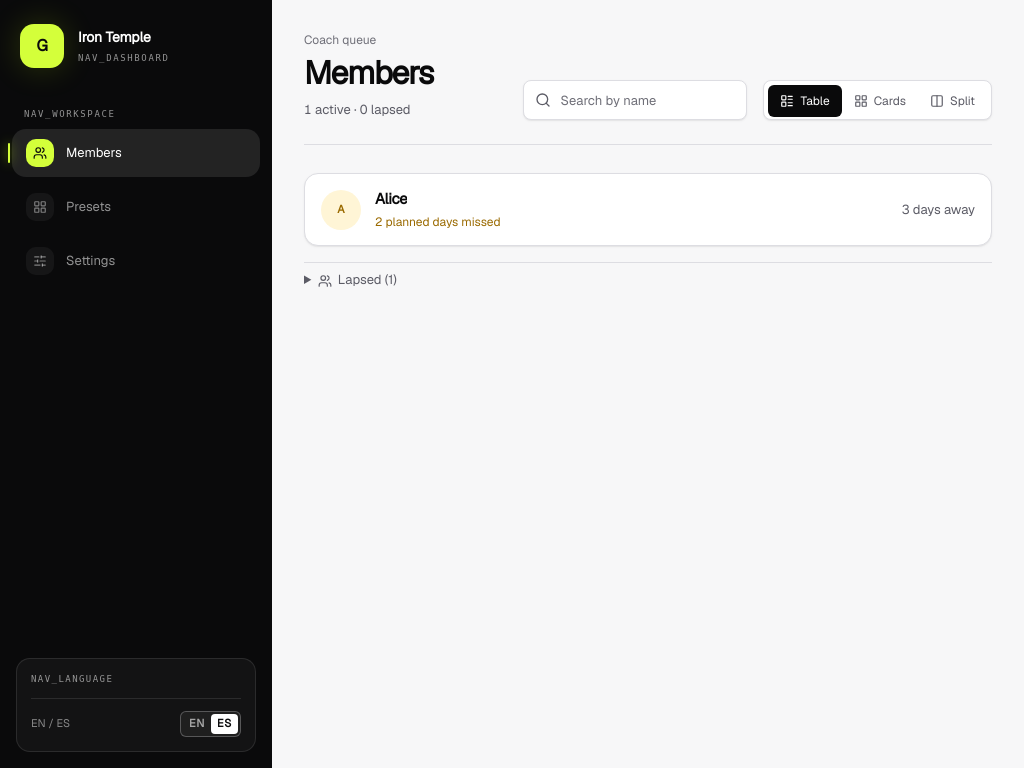
Test: RosterShell › switches to cards view
Click the button labelled "Cards" at [880, 101], box [842, 85, 918, 117]
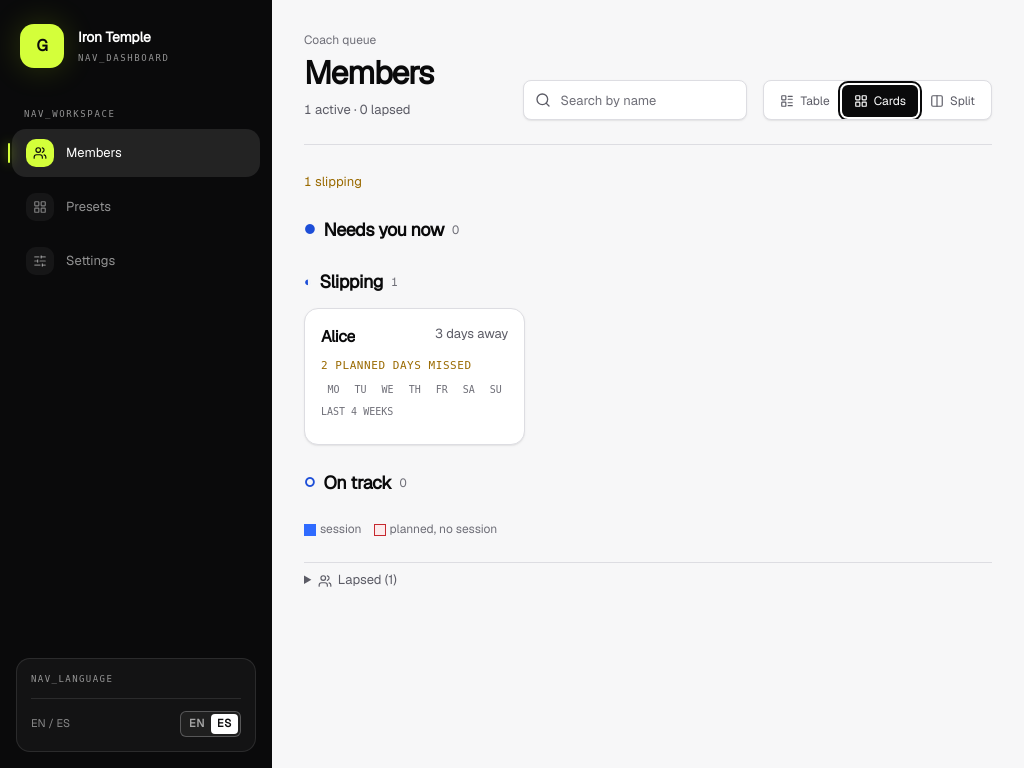
Expected: the text "session" is shown, [304, 521, 362, 538]
Expected: the text "planned, no session" is shown, [374, 521, 497, 538]
